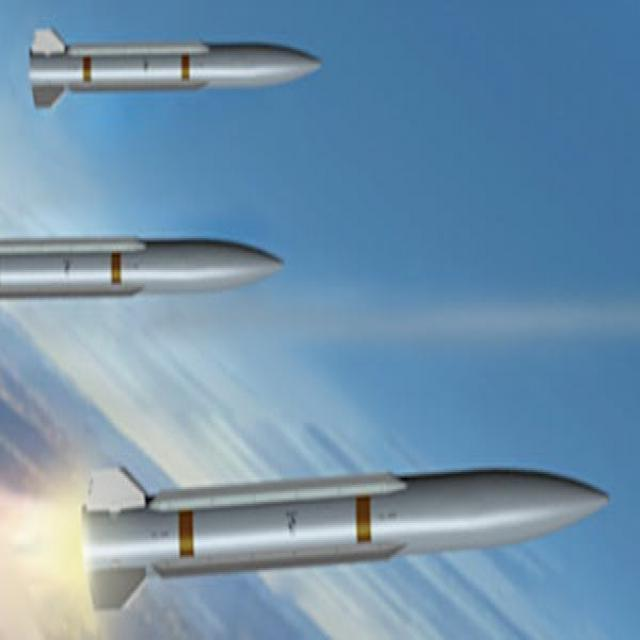missile: (75, 422, 616, 623), (0, 12, 320, 118), (0, 211, 288, 314)
